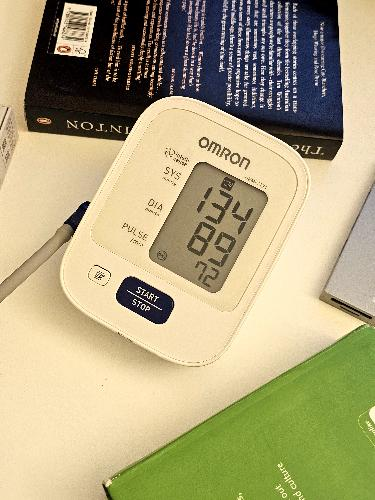bpm: (144, 156, 272, 298)
